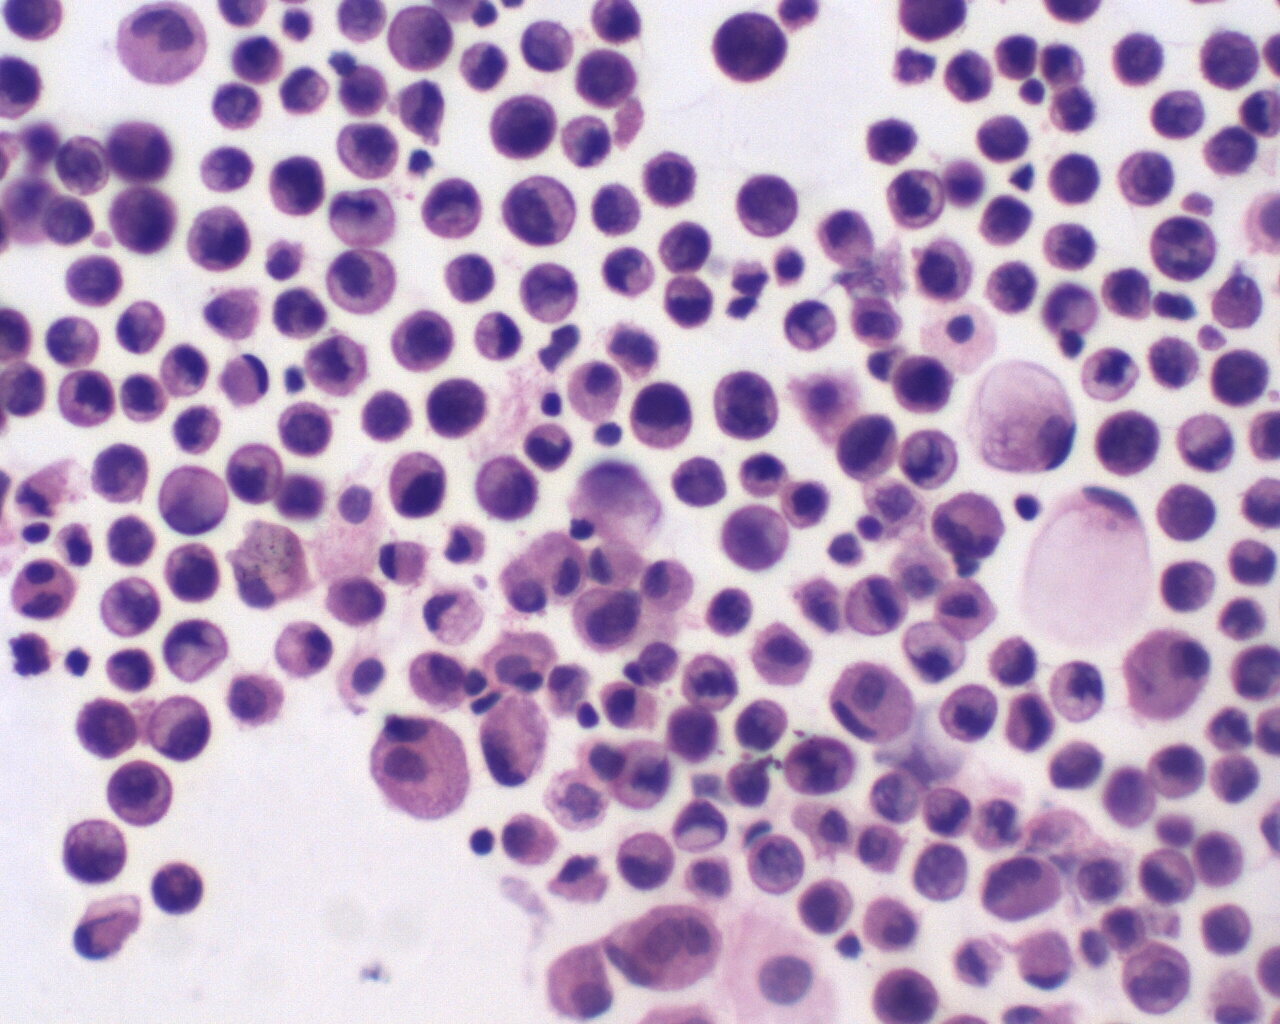ab: (711, 360, 790, 444), (982, 853, 1068, 930), (709, 9, 793, 86), (1118, 939, 1197, 1019), (566, 581, 645, 660), (501, 171, 579, 250), (834, 401, 906, 486), (1091, 401, 1167, 481), (927, 486, 1006, 562), (467, 453, 550, 526), (385, 1, 463, 76), (779, 729, 860, 802), (326, 114, 408, 184), (625, 379, 700, 452), (381, 449, 453, 526), (104, 753, 178, 828), (104, 186, 179, 258), (1145, 211, 1217, 285), (483, 89, 557, 160), (728, 172, 804, 241), (182, 197, 249, 275), (60, 818, 132, 889), (386, 309, 459, 379), (861, 964, 946, 1024), (320, 569, 401, 631), (1191, 26, 1264, 94), (906, 232, 975, 303), (424, 372, 491, 443), (75, 693, 143, 762), (224, 438, 288, 510), (53, 366, 124, 430), (266, 152, 333, 219), (887, 349, 954, 417), (1153, 480, 1220, 546), (85, 440, 152, 506), (574, 47, 645, 109), (887, 165, 949, 236), (1100, 761, 1162, 831), (1206, 345, 1272, 410), (62, 245, 125, 310), (273, 396, 338, 460), (146, 856, 210, 921), (907, 839, 971, 904), (160, 537, 222, 604), (637, 145, 699, 212), (99, 578, 166, 639), (1109, 145, 1178, 205), (224, 669, 287, 731), (667, 448, 732, 509), (1160, 550, 1219, 616), (797, 872, 856, 940), (1111, 28, 1172, 92), (1196, 898, 1261, 958), (1195, 123, 1262, 182), (1150, 77, 1208, 145), (1043, 149, 1106, 211), (37, 188, 97, 250), (730, 693, 790, 755), (1034, 218, 1100, 275), (659, 707, 724, 763), (659, 216, 719, 275), (1004, 692, 1060, 754), (972, 112, 1035, 166), (973, 195, 1038, 248), (271, 284, 328, 343), (444, 248, 499, 305), (598, 245, 655, 300), (208, 80, 267, 134), (118, 369, 171, 426), (168, 399, 223, 453)
histo: (1020, 480, 1155, 649), (967, 357, 1077, 479), (824, 655, 920, 753), (1013, 927, 1079, 995), (420, 580, 487, 648)
lymph: (468, 823, 496, 858)
